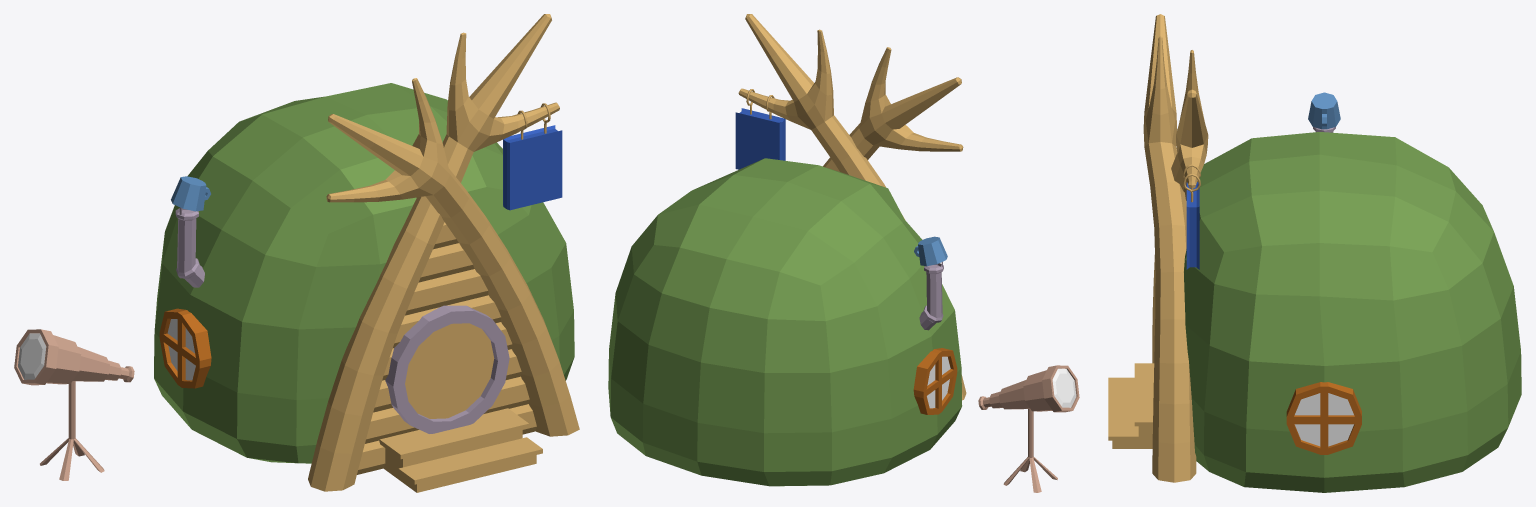
Rendered from losyash_house.glb.
3 views of the same model, side by side, from view 1: azimuth 30°, elevation 25°; view 2: azimuth 150°, elevation 25°; view 3: azimuth 270°, elevation 25° (orthographic). The views are drawn at different scales.
Visible parts, largest first — view 1: Cube, Cube.002, Cube.001, Cylinder, Cube.011, Cube.014, Cylinder.003, Cube.013, Cube.008, Cube.004, Cylinder.001, Cube.009 (+5 smaller); view 2: Cube, Cube.002, Cube.001, Cylinder.003, Cube.014, Cube.013, Cylinder.001, Cube.015, Cylinder.002; view 3: Cube, Cube.001, Cube.012, Cube.011, Cube.002, Cube.014, Cylinder.002.
Part boxes in pixels (x1=…): Cube: x1=154, y1=83, x2=574, y2=463; Cube.002: x1=308, y1=14, x2=559, y2=491; Cube.001: x1=326, y1=78, x2=579, y2=436; Cylinder: x1=385, y1=305, x2=509, y2=433; Cube.011: x1=379, y1=408, x2=542, y2=492; Cube.014: x1=503, y1=125, x2=562, y2=210; Cylinder.003: x1=14, y1=329, x2=134, y2=385; Cube.013: x1=159, y1=308, x2=211, y2=388; Cube.008: x1=405, y1=269, x2=488, y2=315; Cube.004: x1=365, y1=376, x2=529, y2=443; Cylinder.001: x1=175, y1=207, x2=204, y2=287; Cube.009: x1=418, y1=243, x2=474, y2=282; Cube: x1=608, y1=158, x2=962, y2=486; Cube.002: x1=738, y1=14, x2=966, y2=400; Cube.001: x1=823, y1=47, x2=963, y2=171; Cylinder.003: x1=978, y1=365, x2=1079, y2=412; Cube.014: x1=735, y1=108, x2=785, y2=169; Cube.013: x1=913, y1=348, x2=957, y2=414; Cylinder.001: x1=919, y1=261, x2=943, y2=330; Cube.015: x1=1003, y1=409, x2=1057, y2=492; Cylinder.002: x1=914, y1=236, x2=947, y2=266; Cube: x1=1184, y1=132, x2=1521, y2=492; Cube.001: x1=1143, y1=14, x2=1196, y2=482; Cube.012: x1=1286, y1=382, x2=1361, y2=454; Cube.011: x1=1108, y1=363, x2=1154, y2=448; Cube.002: x1=1152, y1=50, x2=1208, y2=363; Cube.014: x1=1186, y1=182, x2=1199, y2=269; Cylinder.002: x1=1308, y1=92, x2=1340, y2=129.
Size of the model in its own units: 4.22 by 3.12 by 3.04.
